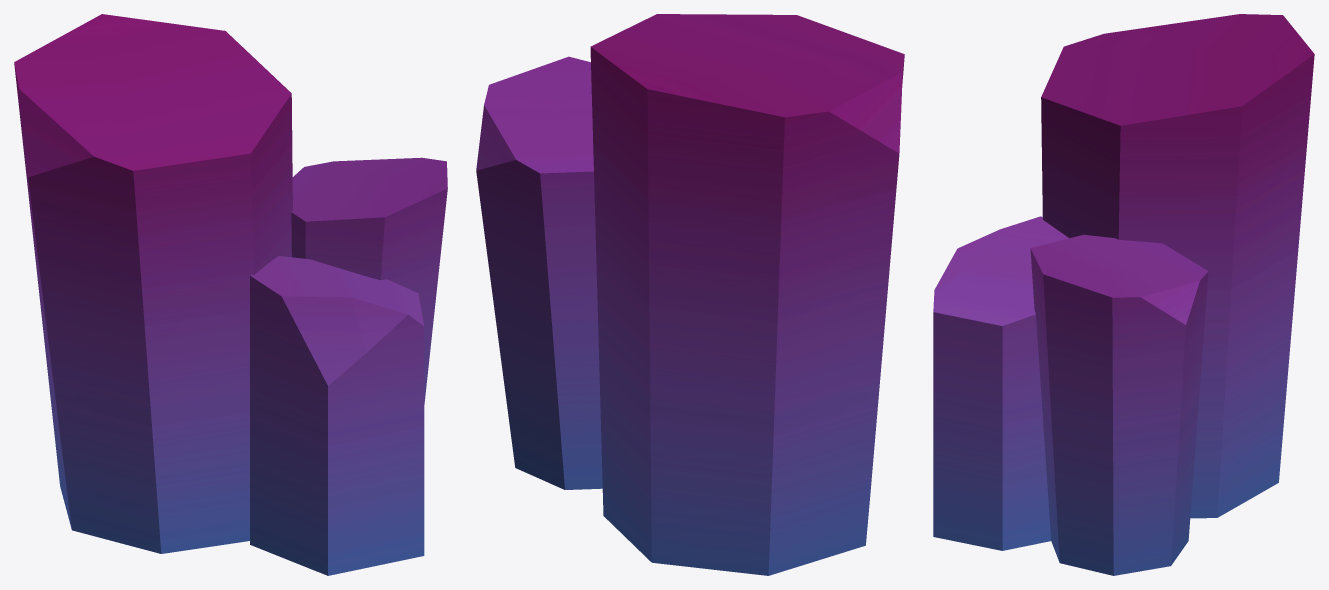
File: rocatopacio_03.fbx
The picture shows the model from 3 angles, left to right: view 1: azimuth 30°, elevation 25°; view 2: azimuth 150°, elevation 25°; view 3: azimuth 270°, elevation 25°; orthographic projection. The views are drawn at different scales.
Parts seen in each view (by area): view 1: cueva03.001; view 2: cueva03.001; view 3: cueva03.001.
Part boxes in pixels (x1,y1,x2,y2): cueva03.001: (14,14,447,575); cueva03.001: (476,14,904,575); cueva03.001: (933,14,1314,575).
Size of the model in its own units: 497 by 526 by 431.
Materials: 1 (1 with a texture image).
